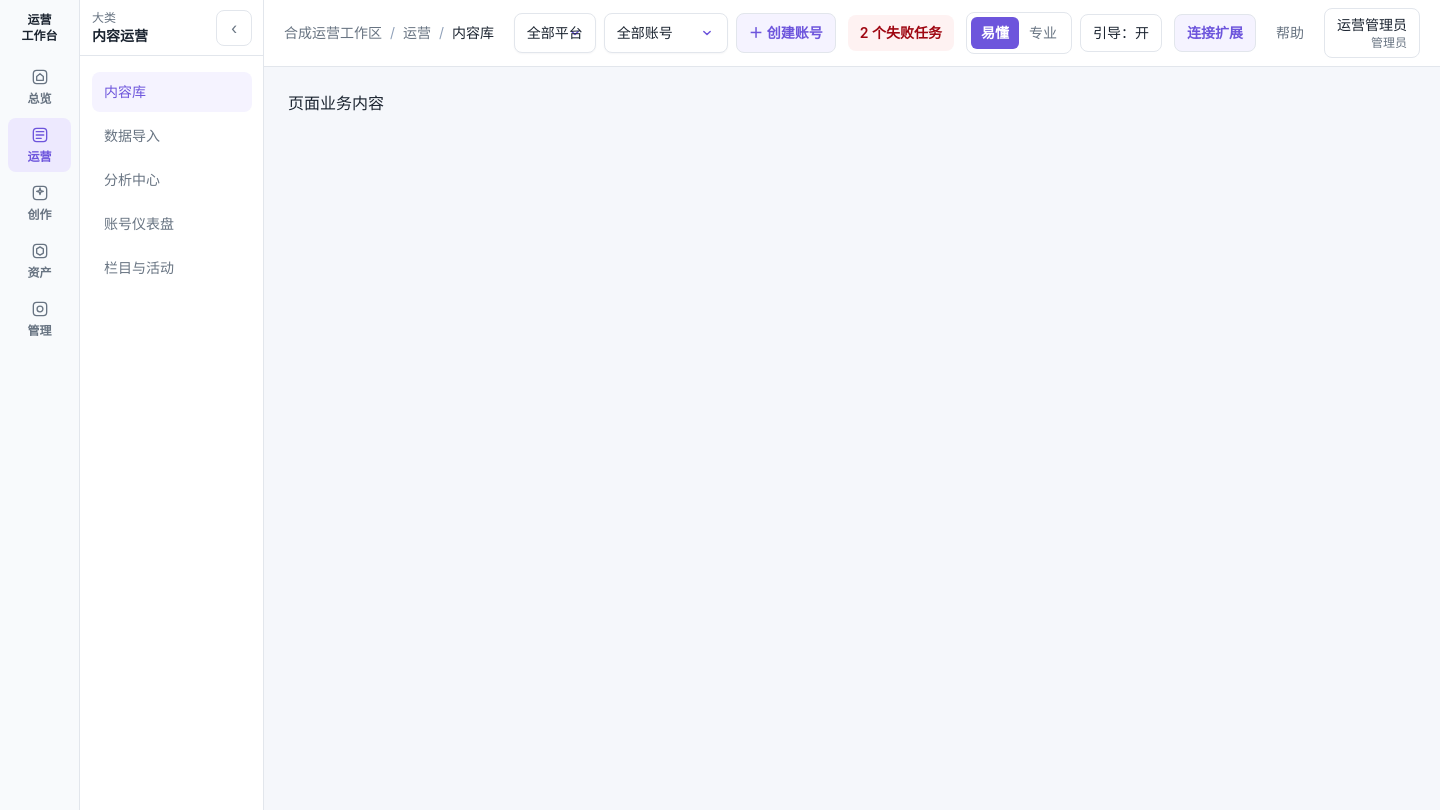
Test: workspace shell behavior › opens the shared extension pairing dialog from the topbar entry
This screenshot has width=1440, height=810.
Click the button "连接扩展".
click(1215, 33)  # box left=1174, top=14, right=1256, bottom=52
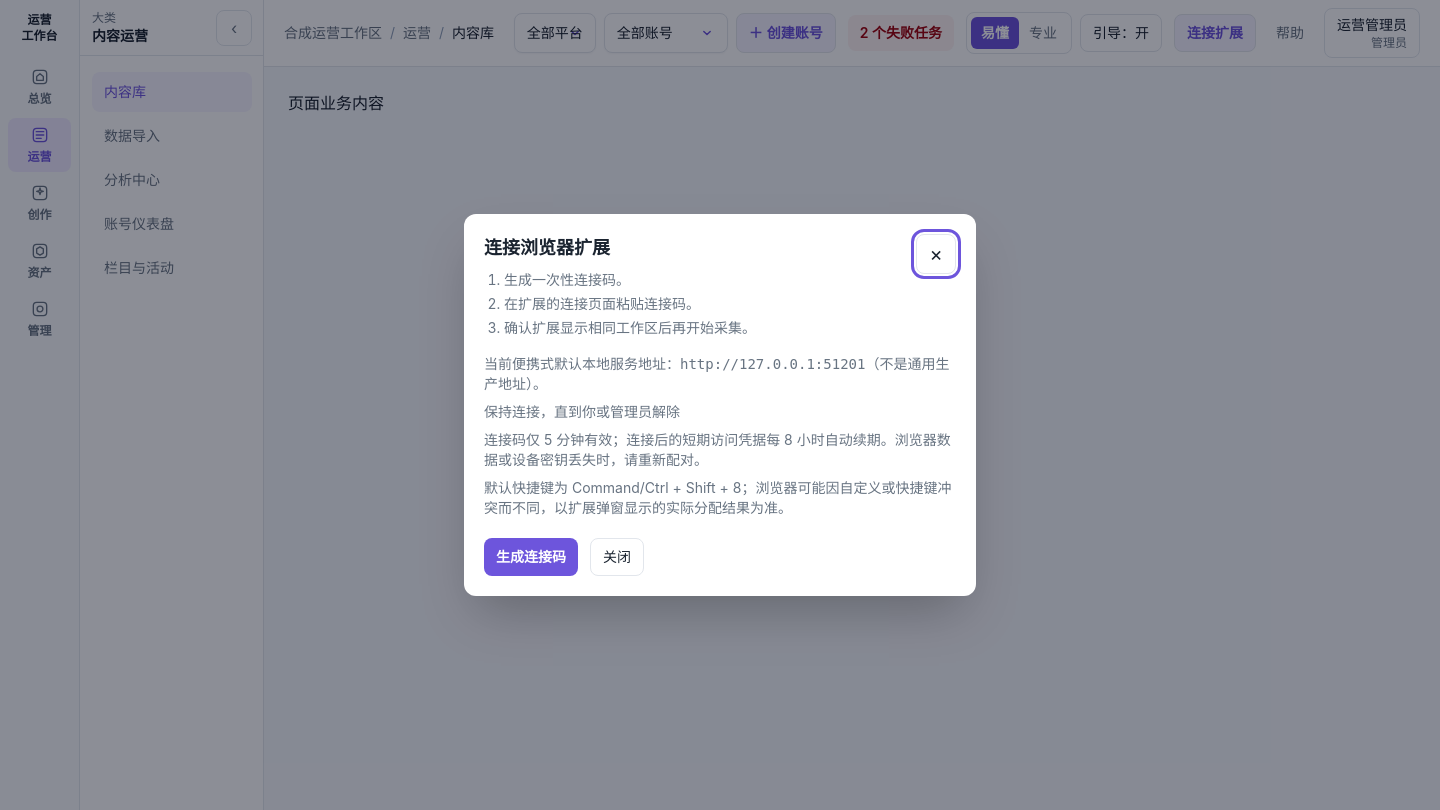
Now the dialog "连接浏览器扩展" is shown, box left=464, top=214, right=976, bottom=596
